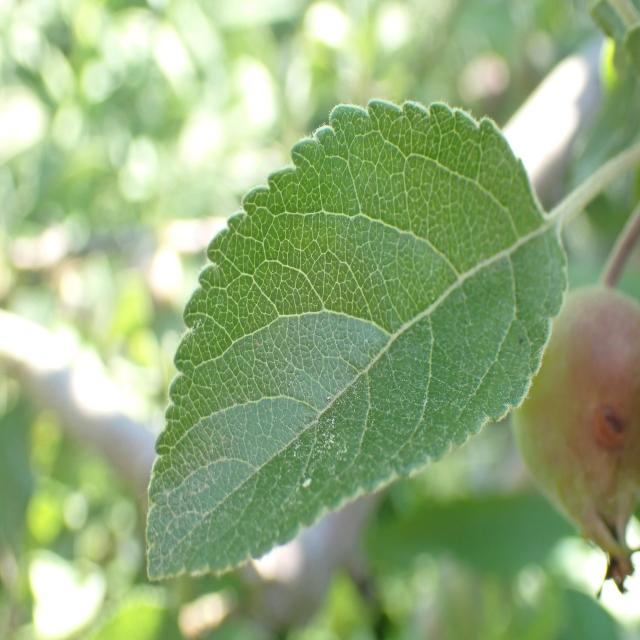healthy: (145, 97, 569, 584)
